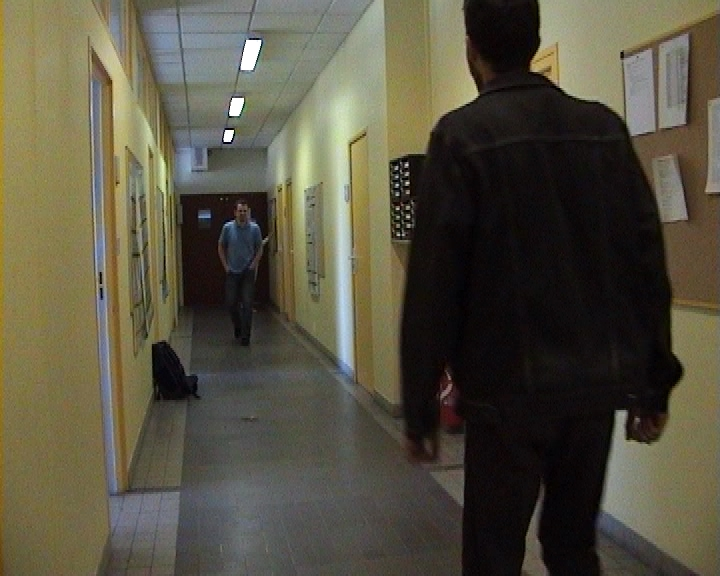leave bag unattended: (138, 319, 208, 414)
